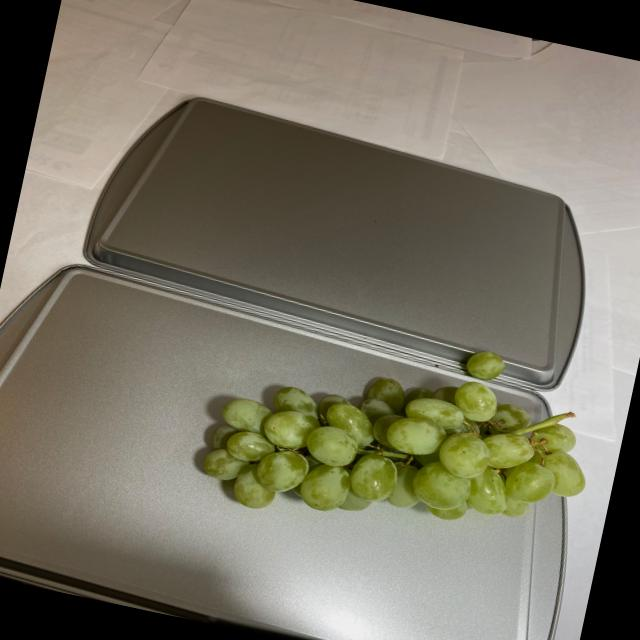grapes: (194, 334, 600, 570), (462, 346, 508, 386)
